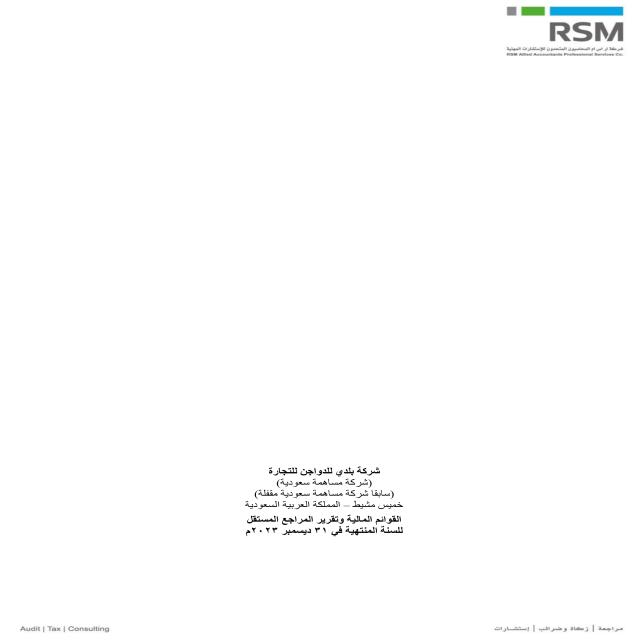other: (121, 124, 534, 584)
